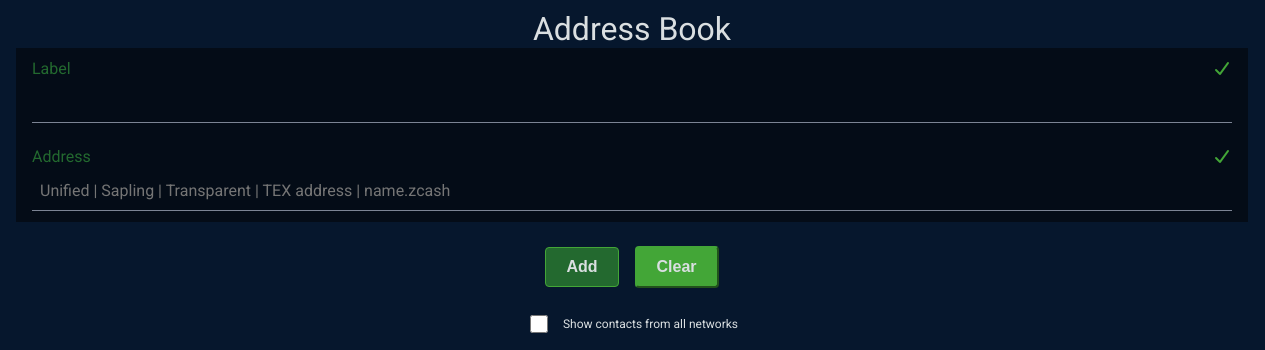
Scenario: AddressBook › shows 'ZNS is not available on this network' when chain is unsupported
Type "alice.zcash" into the field labelled "Unified | Sapling | Transparent | TEX address | name.zcash" at (632, 190), box [32,170,1232,211]
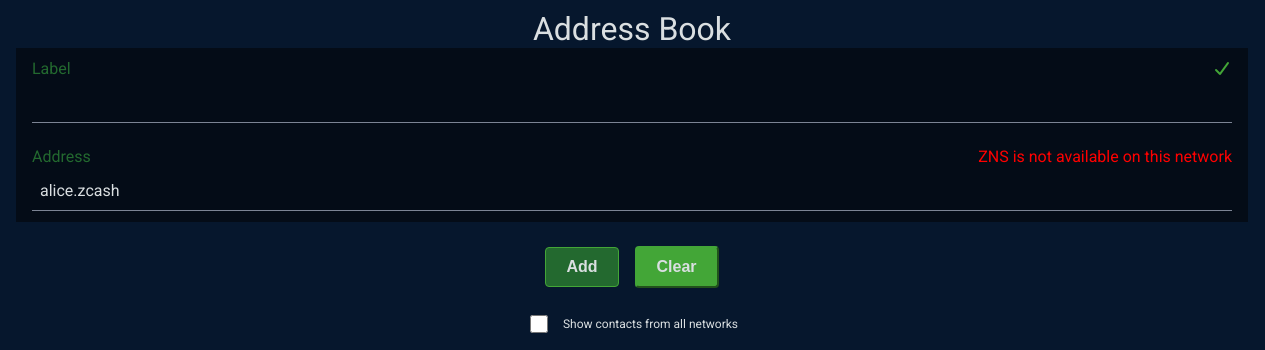
Check: the text "ZNS is not available on this network" is shown, box [978,147,1232,166]
